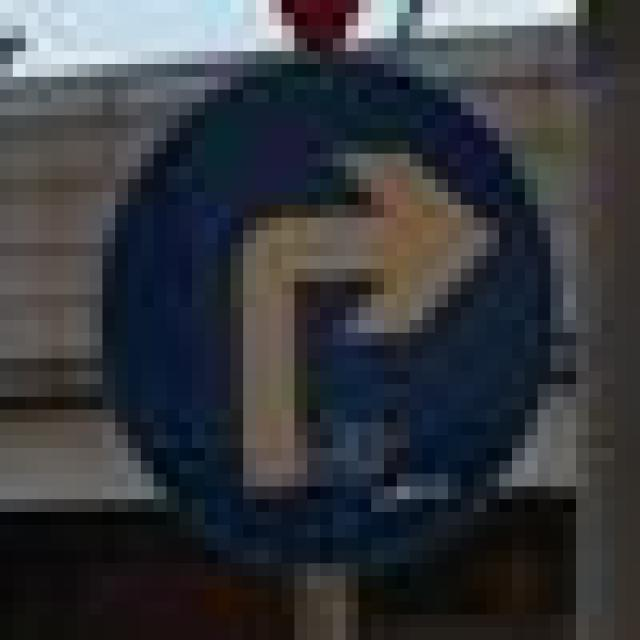railway_crossing: (90, 51, 538, 563)
